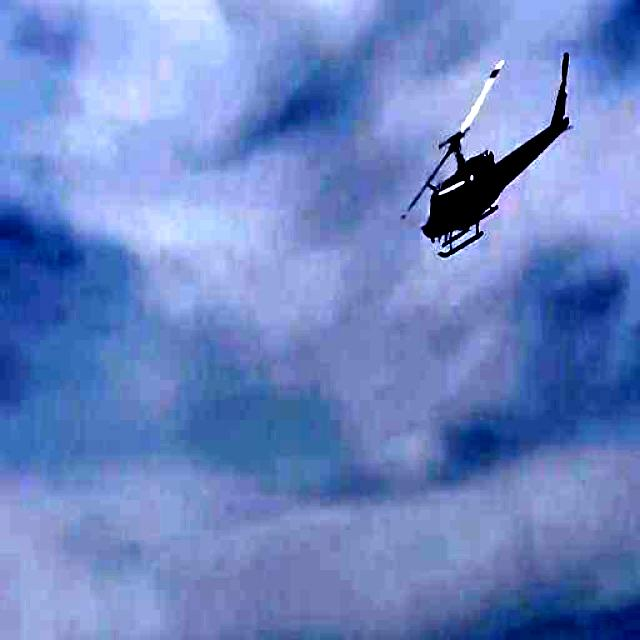drone: (390, 45, 586, 260)
